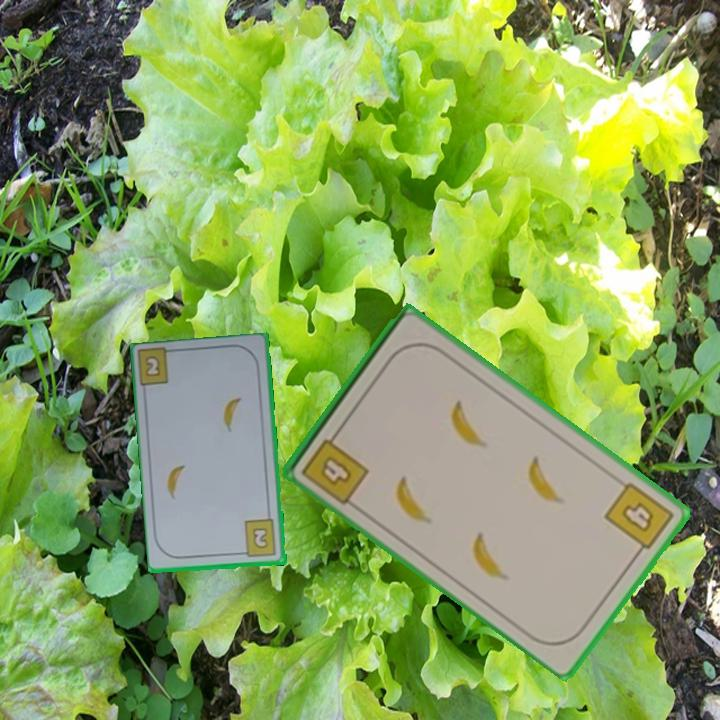2b: (237, 516, 279, 560), (142, 354, 164, 380)
4b: (601, 478, 677, 560), (298, 426, 372, 508)
